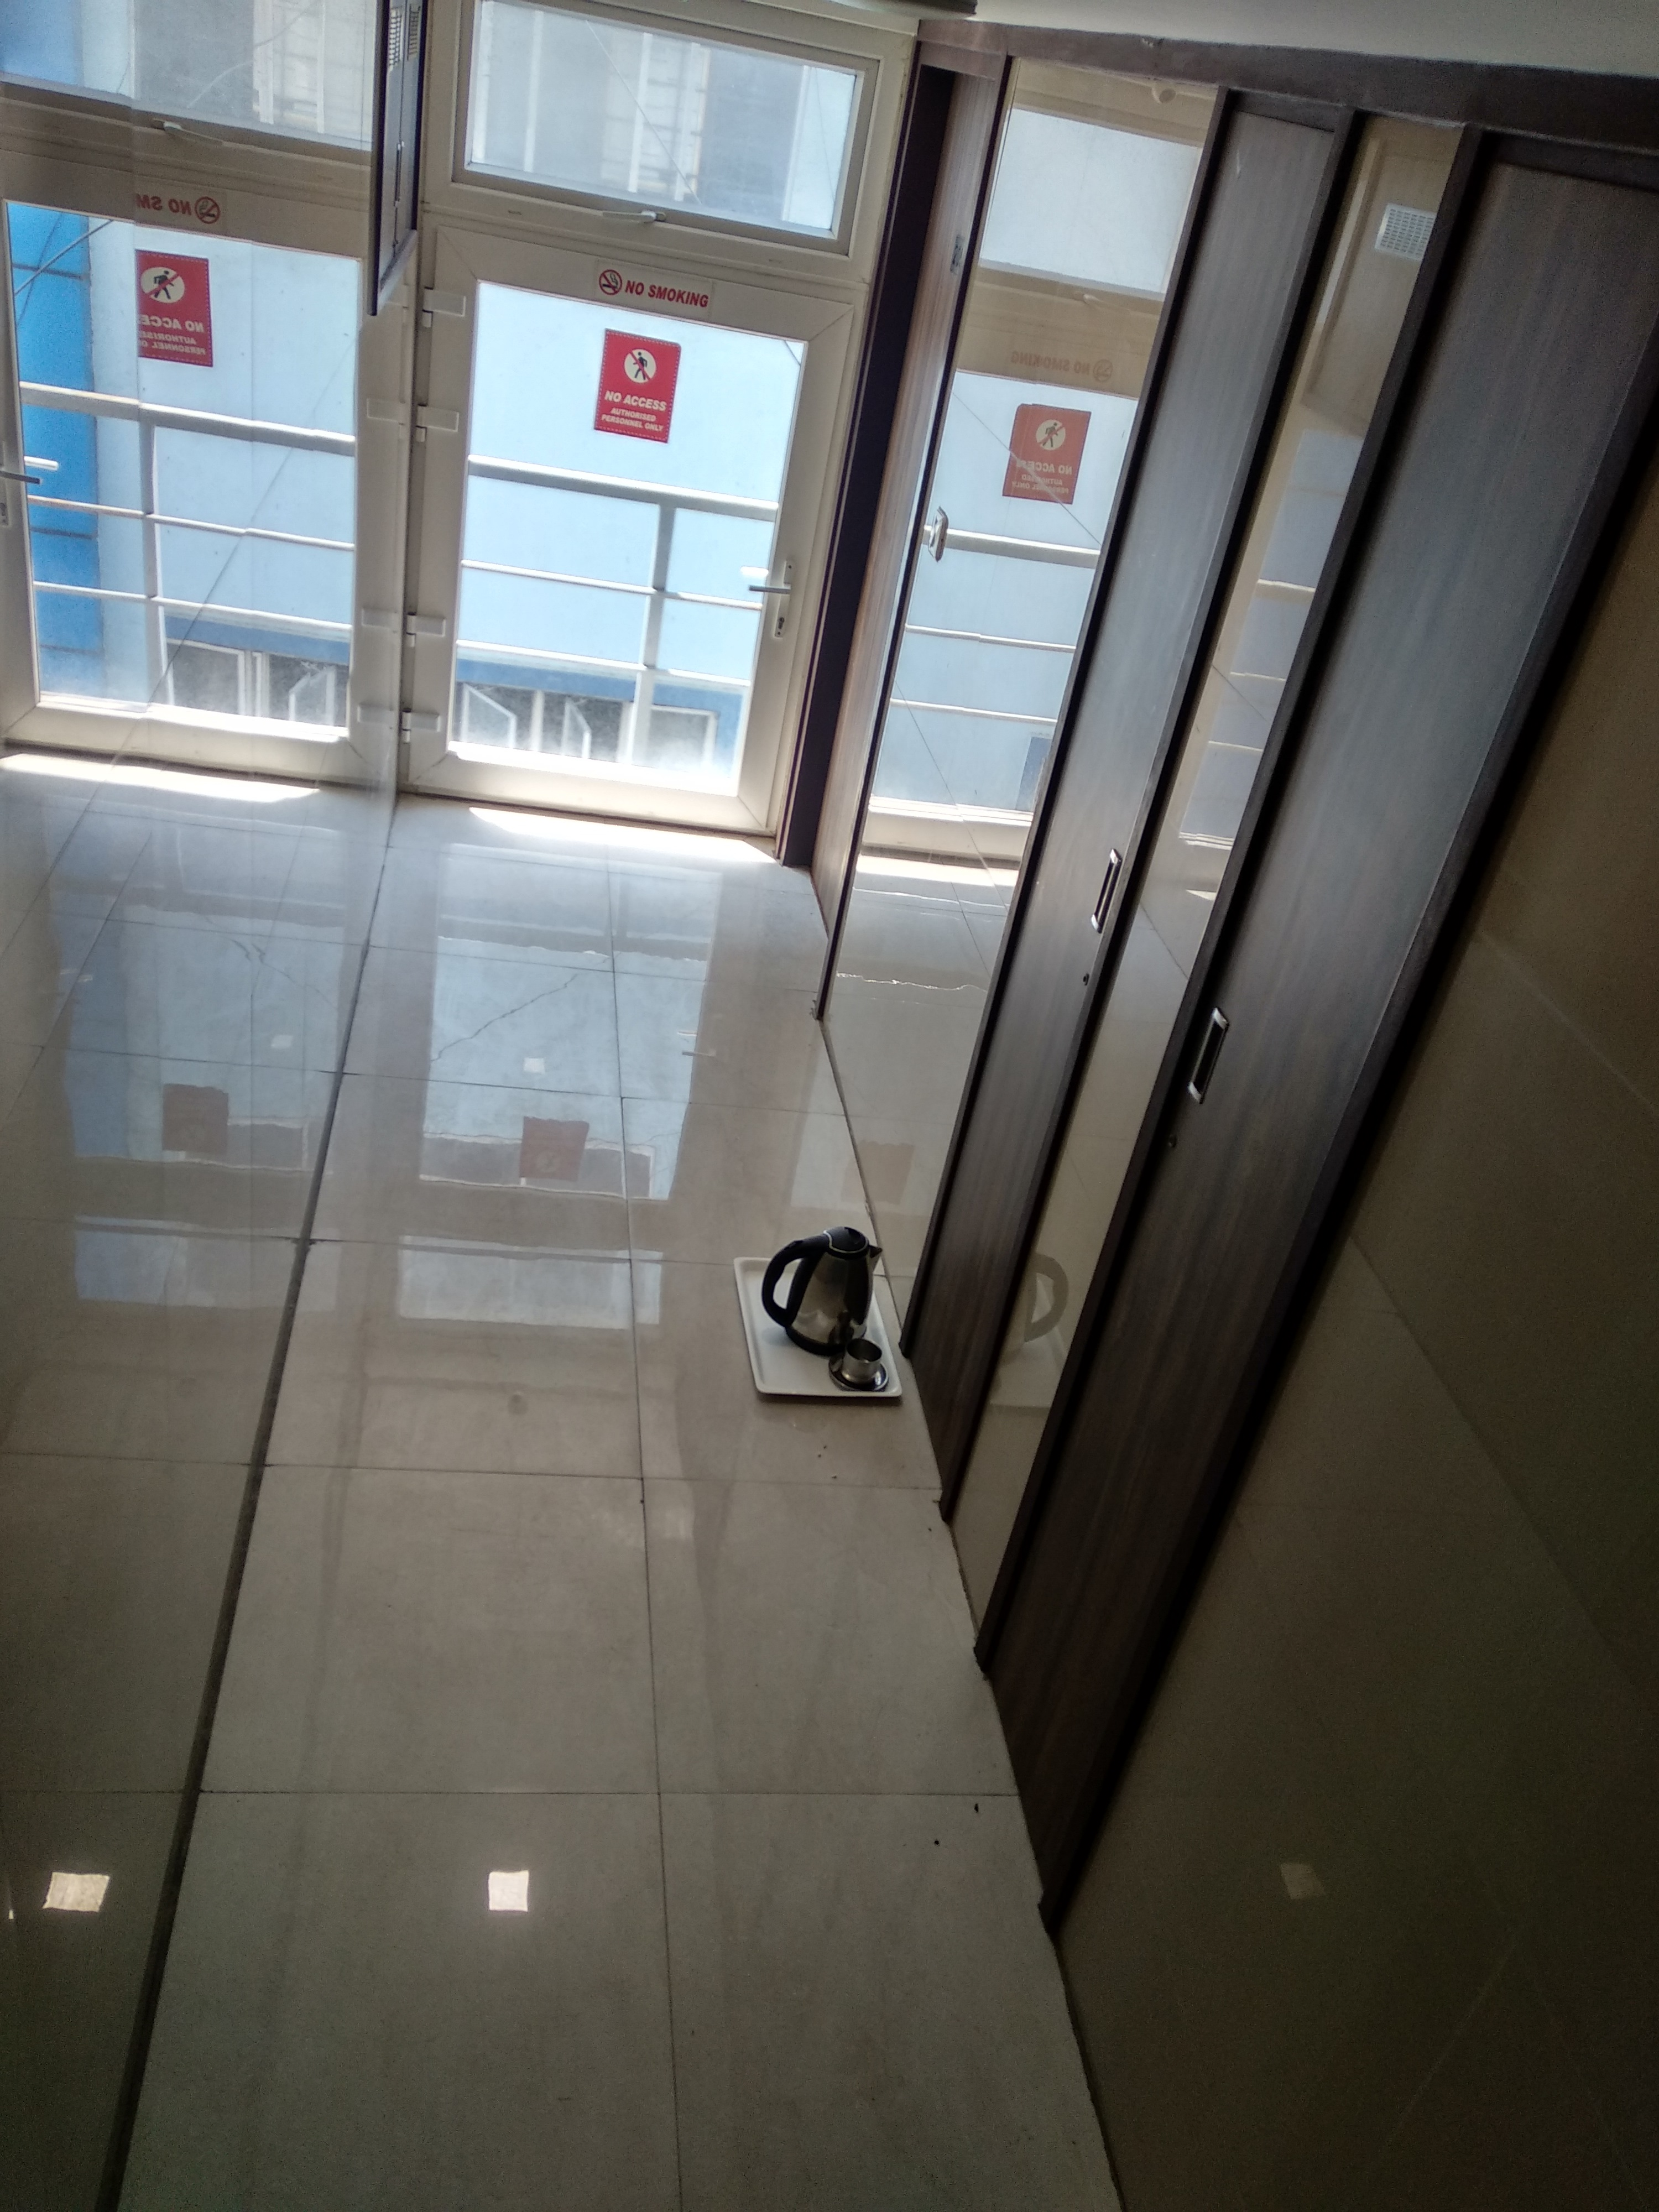CUP: (843, 1341, 885, 1385)
FLASK: (793, 1224, 884, 1324)
